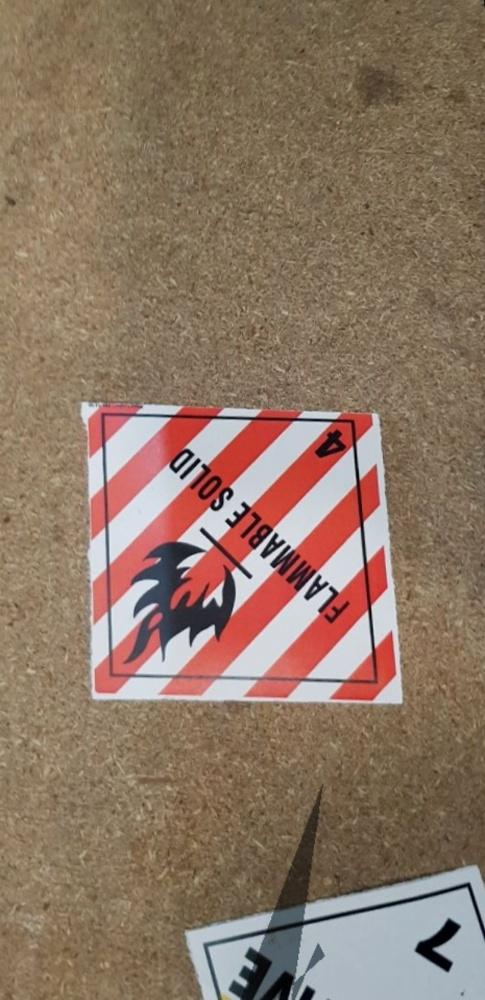flammable-solid: (90, 398, 407, 720)
